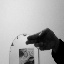h: (25, 27, 58, 52)
